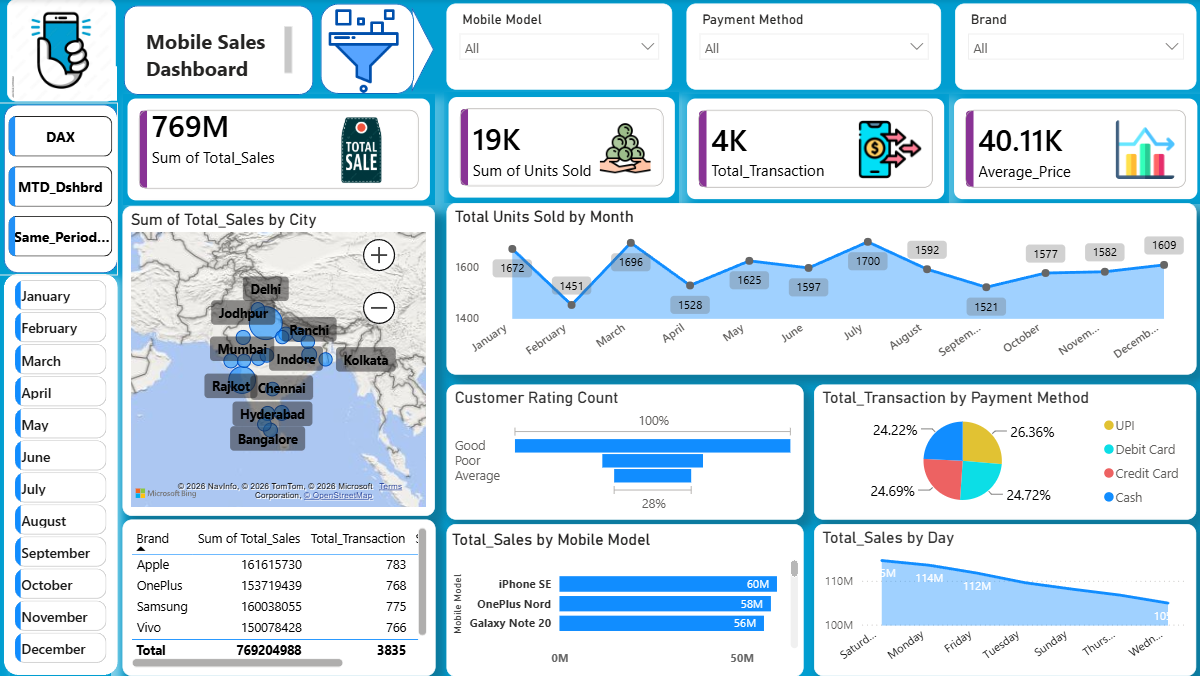

The page's visual inventory and layout, read from the dashboard file:
{"tool":"powerbi","page":{"name":"DashBoard","canvas":[1280,720],"ordinal":1},"visuals":[{"type":"shape","box":[0,289.5,130.1,429.4],"z":0},{"type":"shape","box":[0,109,130.1,183],"z":1000},{"type":"image","box":[12,0,115,109],"z":2000},{"type":"cardVisual","fields":{"Data":["Sum(Mobile_Sales_Data.Total_Sales)"]},"box":[135,101,331,118],"z":3000},{"type":"cardVisual","fields":{"Data":["Mobile_Sales_Data.Total_Transaction"]},"box":[728.7,100,283,117.1],"z":4000},{"type":"cardVisual","fields":{"Data":["Sum(Mobile_Sales_Data.Units Sold)"]},"box":[475,99.2,250,117.1],"z":5000},{"type":"cardVisual","fields":{"Data":["Mobile_Sales_Data.Average_Price"]},"box":[1011.7,100,268.4,117.1],"z":6000},{"type":"shape","box":[128,4,210,99],"z":7000},{"type":"shape","box":[418,8.1,47.2,91.1],"z":8000},{"type":"slicer","fields":{"Values":["Mobile_Sales_Data.Payment Method"]},"box":[734,5,270,91],"z":9000},{"type":"slicer","fields":{"Values":["Mobile_Sales_Data.Brand"]},"box":[1018.2,5,256,91],"z":10000},{"type":"shape","box":[344.8,4.9,99.2,96],"z":11000},{"type":"image","box":[336.7,9.8,107.4,91.1],"z":12000},{"type":"textbox","box":[154.5,24.4,165.9,63.4],"z":13000},{"type":"slicer","fields":{"Values":["Mobile_Sales_Data.Mobile Model"]},"box":[478.2,5,239.1,91.1],"z":14000},{"type":"map","fields":{"Category":["Mobile_Sales_Data.City"],"Size":["Sum(Mobile_Sales_Data.Total_Sales)"]},"box":[135,219,331,328.6],"z":15000},{"type":"lineChart","title":"Total Units Sold by Month","fields":{"Category":["Custom_Calendar.Date.Variation.Date Hierarchy.Month"],"Y":["Sum(Mobile_Sales_Data.Units Sold)"]},"box":[478.2,216.3,795.4,182.2],"z":16000},{"type":"funnel","title":"Customer Rating Count","fields":{"Category":["Mobile_Sales_Data.Rating_Status"],"Y":["CountNonNull(Mobile_Sales_Data.Customer Ratings)"]},"box":[478.2,408.3,379,143.1],"z":17000},{"type":"pieChart","fields":{"Category":["Mobile_Sales_Data.Payment Method"],"Y":["Mobile_Sales_Data.Total_Transaction"]},"box":[868.6,408,405,143.1],"z":18000},{"type":"tableEx","fields":{"Values":["Mobile_Sales_Data.Brand","Sum(Mobile_Sales_Data.Total_Sales)","Mobile_Sales_Data.Total_Transaction","Sum(Mobile_Sales_Data.Units Sold)"]},"box":[135,551.4,331.8,165.9],"z":19000},{"type":"clusteredBarChart","title":"Total_Sales by Mobile Model","fields":{"Y":["Sum(Mobile_Sales_Data.Total_Sales)"],"Category":["Mobile_Sales_Data.Mobile Model"]},"box":[478.2,556,379,162],"z":20000},{"type":"areaChart","title":" Total_Sales by Day","fields":{"Category":["Custom_Calendar.Day Name"],"Y":["Sum(Mobile_Sales_Data.Total_Sales)"]},"box":[868.6,556.3,405,161],"z":21000},{"type":"advancedSlicerVisual","fields":{"Values":["Custom_Calendar.Date.Variation.Date Hierarchy.Month"]},"box":[16.3,292.8,107.4,427.8],"z":22000},{"type":"advancedSlicerVisual","fields":{"Values":["Custom_Calendar.Date.Variation.Date Hierarchy.Month"]},"box":[16.3,292.2,107.4,427.8],"z":23000},{"type":"pageNavigator","box":[14.6,124,110.6,150],"z":23002}]}

Visuals, with their boxes in screenshot pixels (x1, y1, x2, y2), scaled from the page's 1280x720 canvas onto the 1200x676 screenshot:
shape: {"x1": 0, "y1": 272, "x2": 122, "y2": 675}
shape: {"x1": 0, "y1": 102, "x2": 122, "y2": 274}
image: {"x1": 11, "y1": 0, "x2": 119, "y2": 102}
cardVisual - Sum(Mobile_Sales_Data.Total_Sales): {"x1": 127, "y1": 95, "x2": 437, "y2": 206}
cardVisual - Mobile_Sales_Data.Total_Transaction: {"x1": 683, "y1": 94, "x2": 948, "y2": 204}
cardVisual - Sum(Mobile_Sales_Data.Units Sold): {"x1": 445, "y1": 93, "x2": 680, "y2": 203}
cardVisual - Mobile_Sales_Data.Average_Price: {"x1": 948, "y1": 94, "x2": 1199, "y2": 204}
shape: {"x1": 120, "y1": 4, "x2": 317, "y2": 97}
shape: {"x1": 392, "y1": 8, "x2": 436, "y2": 93}
slicer - Mobile_Sales_Data.Payment Method: {"x1": 688, "y1": 5, "x2": 941, "y2": 90}
slicer - Mobile_Sales_Data.Brand: {"x1": 955, "y1": 5, "x2": 1195, "y2": 90}
shape: {"x1": 323, "y1": 5, "x2": 416, "y2": 95}
image: {"x1": 316, "y1": 9, "x2": 416, "y2": 95}
textbox: {"x1": 145, "y1": 23, "x2": 300, "y2": 82}
slicer - Mobile_Sales_Data.Mobile Model: {"x1": 448, "y1": 5, "x2": 672, "y2": 90}
map - Mobile_Sales_Data.City x Sum(Mobile_Sales_Data.Total_Sales): {"x1": 127, "y1": 206, "x2": 437, "y2": 514}
"Total Units Sold by Month" lineChart: {"x1": 448, "y1": 203, "x2": 1194, "y2": 374}
"Customer Rating Count" funnel: {"x1": 448, "y1": 383, "x2": 804, "y2": 518}
pieChart - Mobile_Sales_Data.Payment Method x Mobile_Sales_Data.Total_Transaction: {"x1": 814, "y1": 383, "x2": 1194, "y2": 517}
tableEx - Mobile_Sales_Data.Brand x Sum(Mobile_Sales_Data.Total_Sales): {"x1": 127, "y1": 518, "x2": 438, "y2": 673}
"Total_Sales by Mobile Model" clusteredBarChart: {"x1": 448, "y1": 522, "x2": 804, "y2": 674}
" Total_Sales by Day" areaChart: {"x1": 814, "y1": 522, "x2": 1194, "y2": 673}
advancedSlicerVisual - Custom_Calendar.Date.Variation.Date Hierarchy.Month: {"x1": 15, "y1": 275, "x2": 116, "y2": 675}
advancedSlicerVisual - Custom_Calendar.Date.Variation.Date Hierarchy.Month: {"x1": 15, "y1": 274, "x2": 116, "y2": 675}
pageNavigator: {"x1": 14, "y1": 116, "x2": 117, "y2": 257}
